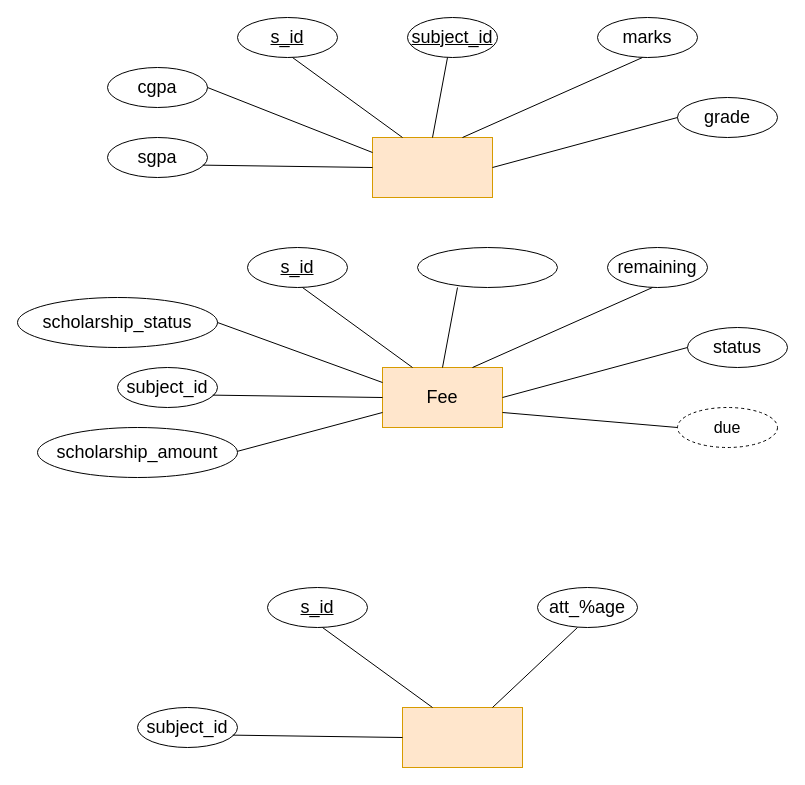
Some shapes in this 805 by 785 pixel diagram are drawn without their labels. Each missing label, with the box of its shape:
actual_amount: (416, 246, 558, 288)
attendence: (402, 706, 522, 768)
Result: (372, 136, 492, 198)
